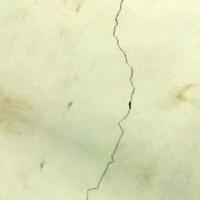crack: (89, 1, 151, 199)
